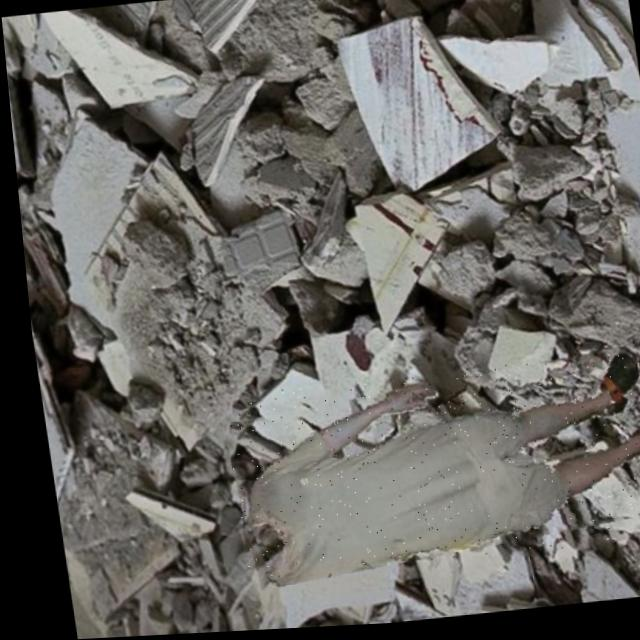Person in Rubble: (211, 354, 640, 583)
